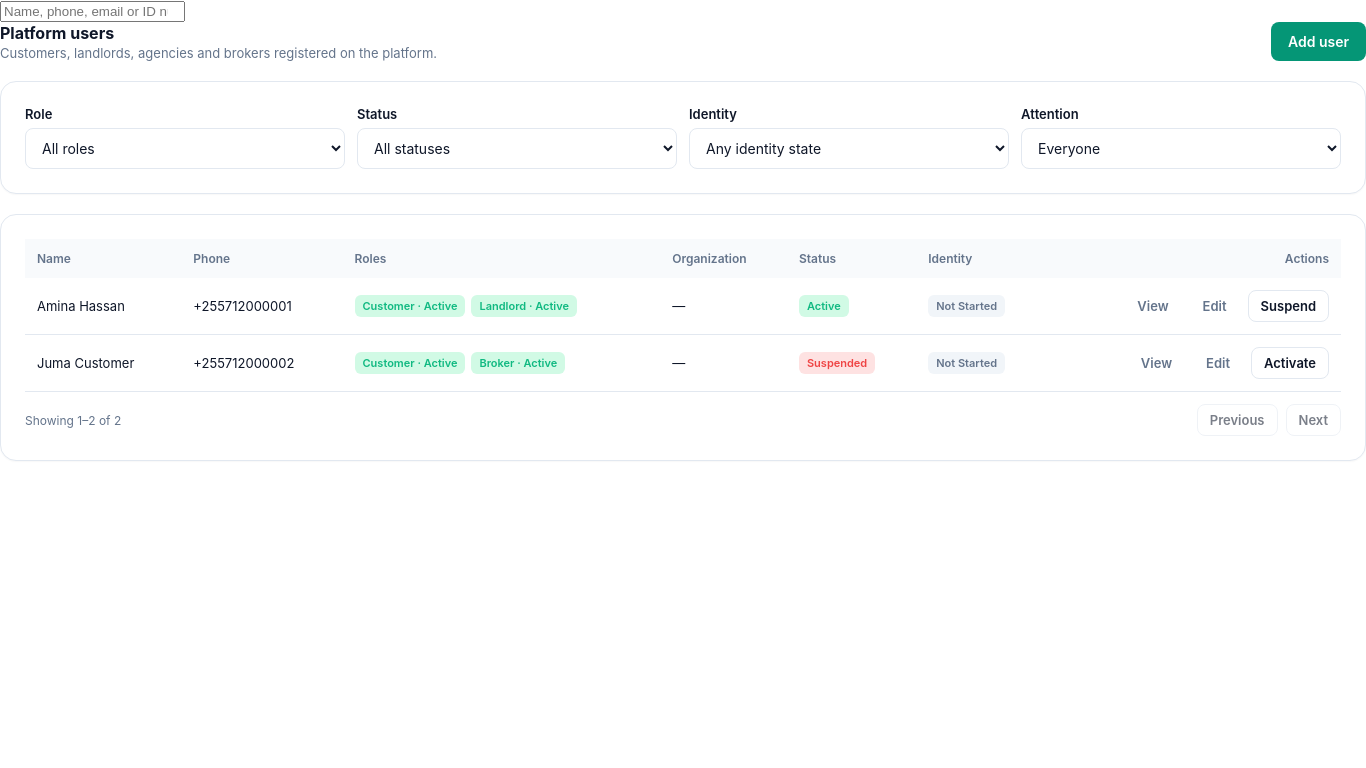
Test: UsersPage — platform users › surfaces a server validation error in the create form
This screenshot has width=1366, height=768.
expect the text "Amina Hassan" is shown: met, box left=25, top=278, right=181, bottom=334
Click the button "Add user" at {"x": 1318, "y": 42}, box left=1271, top=22, right=1365, bottom=61
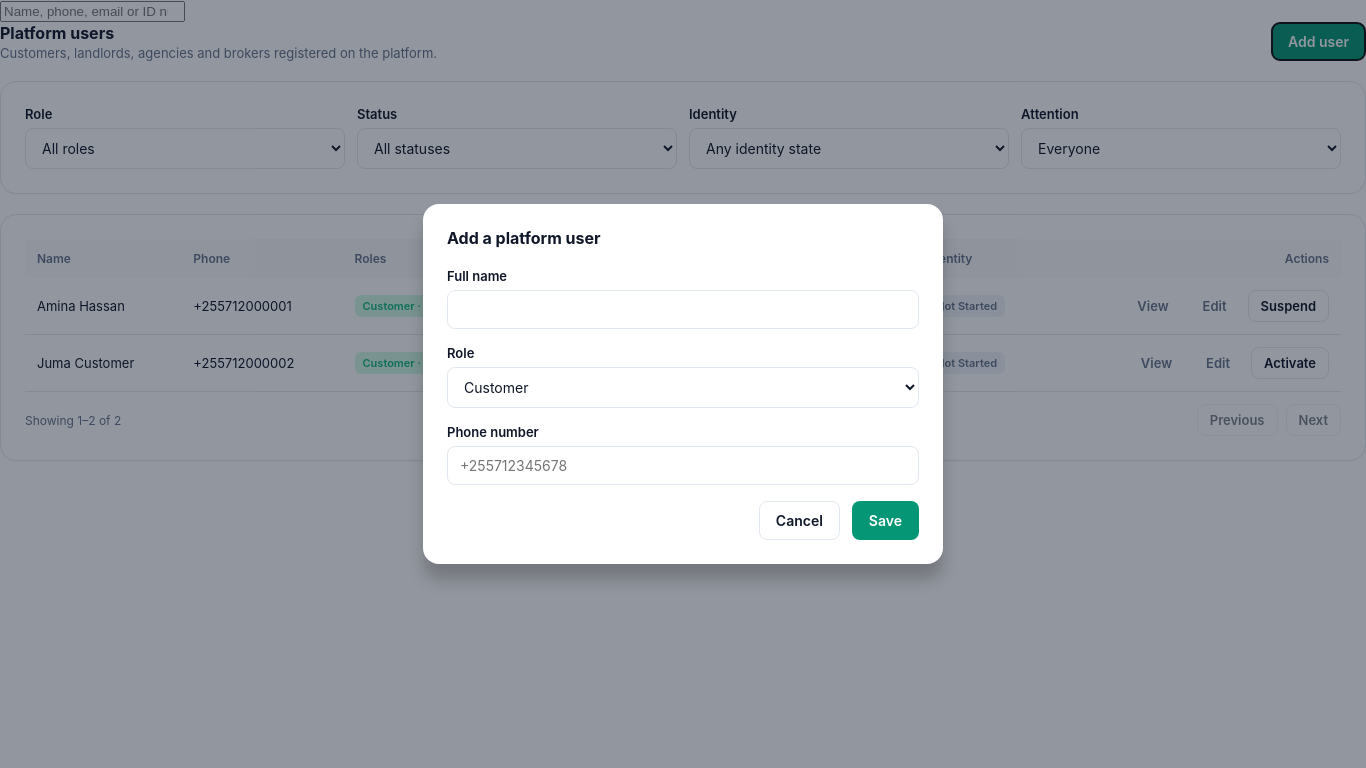
Type "Dup" into the field labelled "Full name" at {"x": 683, "y": 310}, box left=447, top=290, right=919, bottom=329
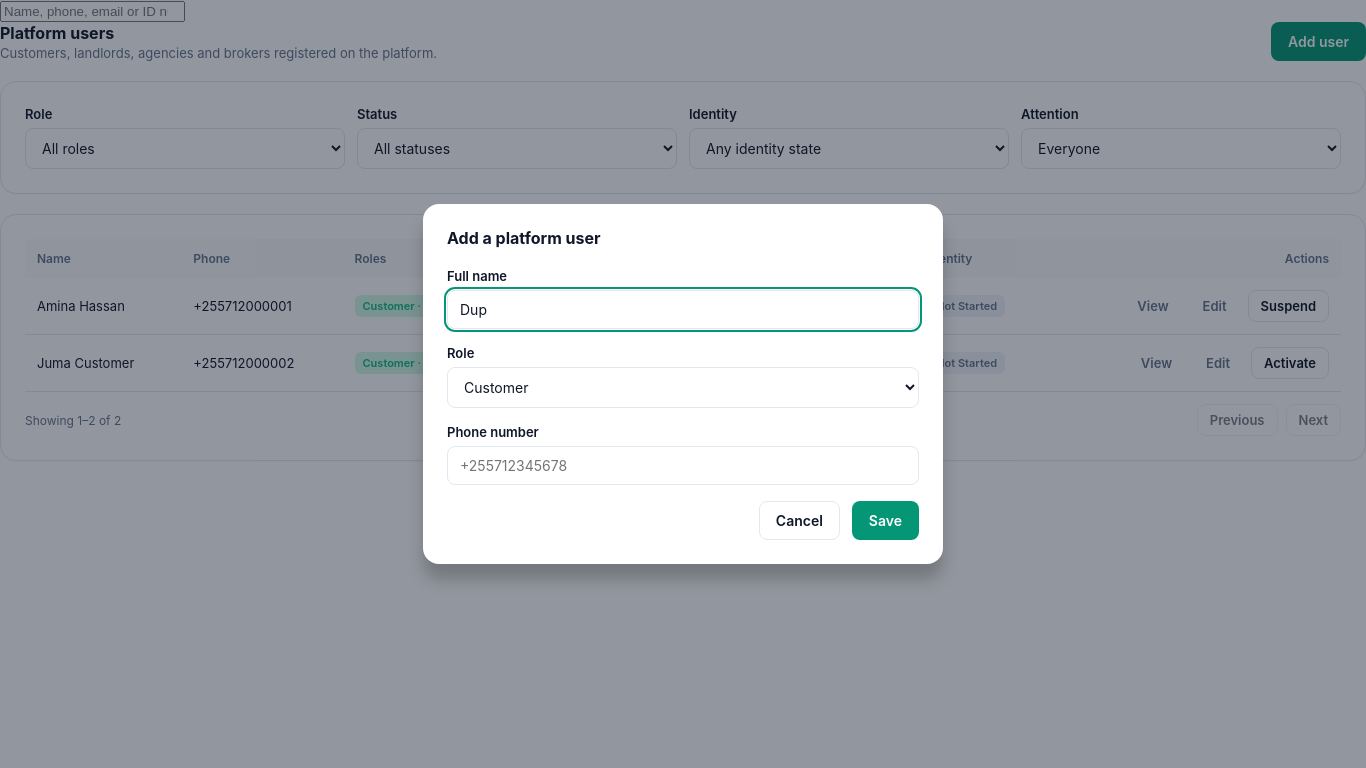
Type "+255712000001" into the field labelled "Phone number" at {"x": 683, "y": 466}, box left=447, top=446, right=919, bottom=485
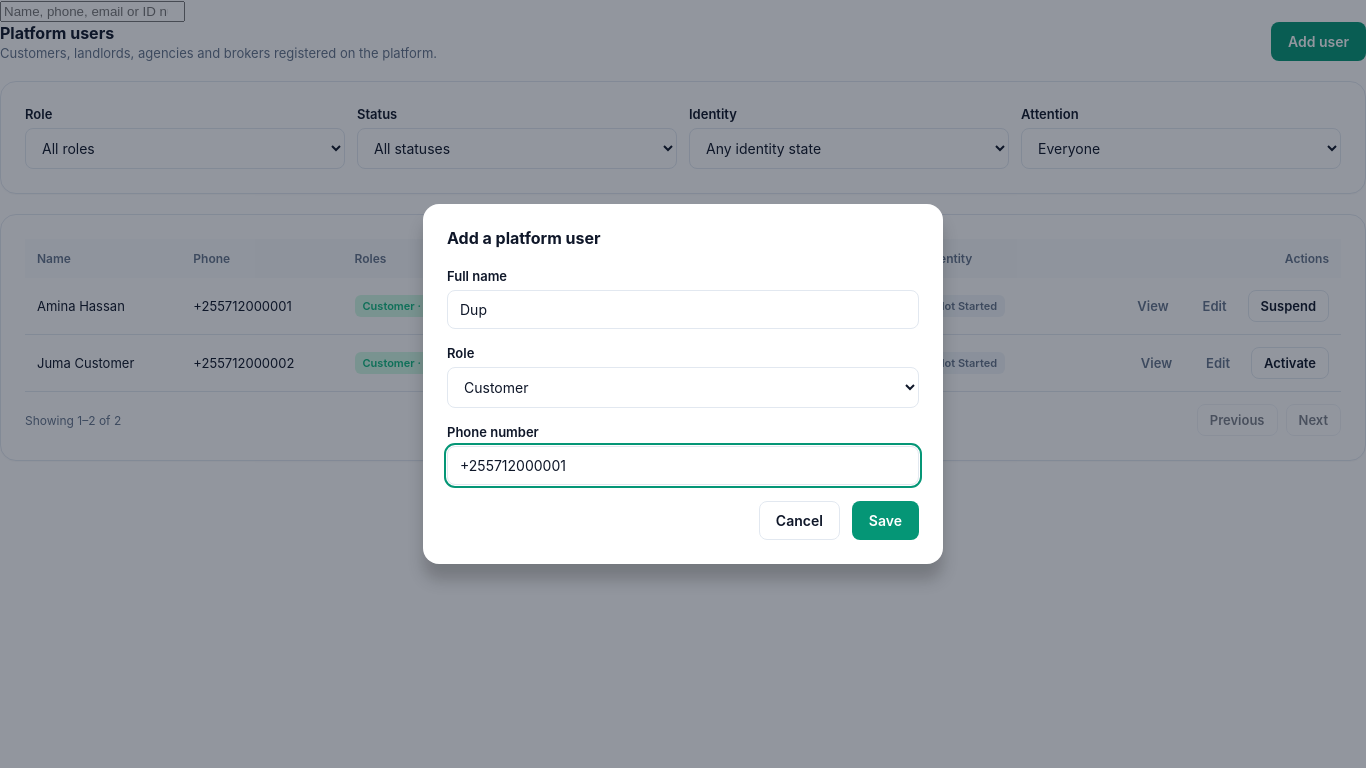
Click the button "Save" at {"x": 885, "y": 520}, box left=852, top=501, right=919, bottom=540
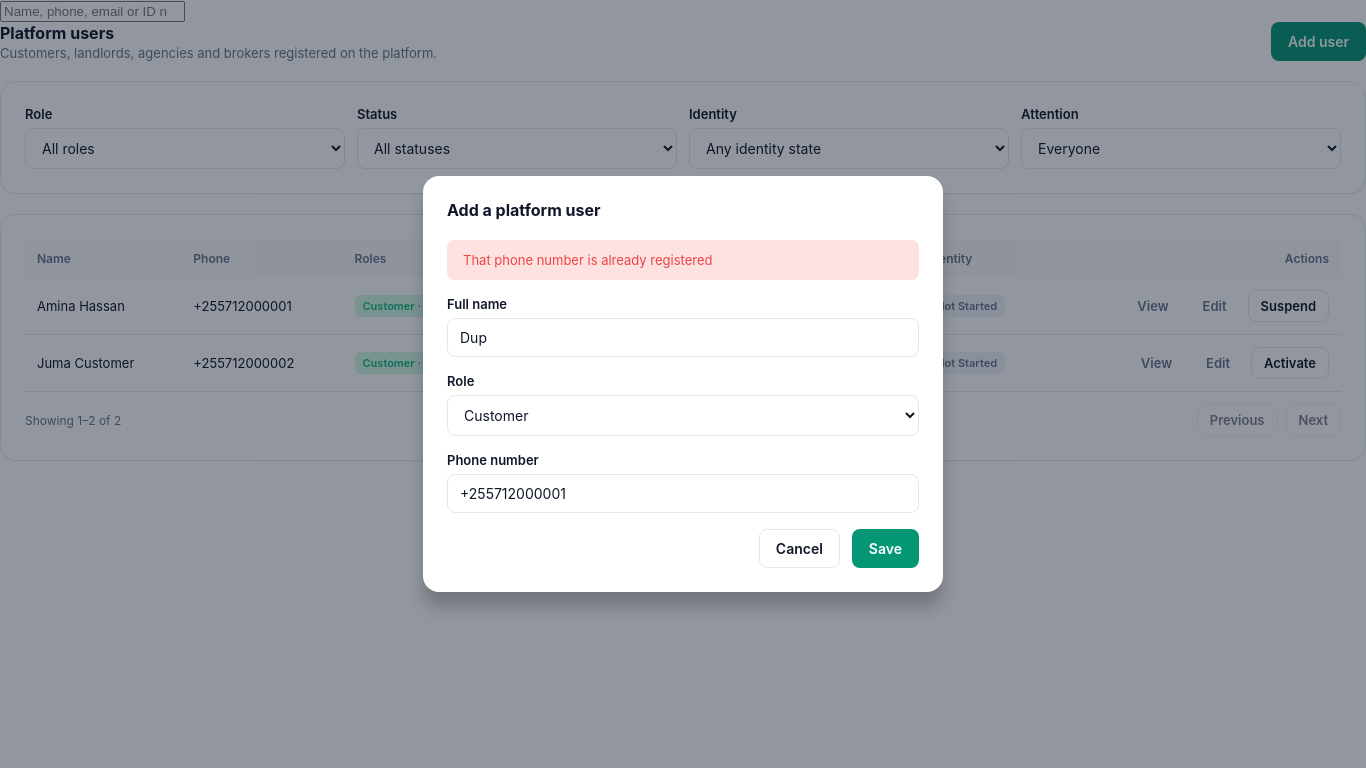
expect the message shows "already registered": met, box left=463, top=252, right=712, bottom=268
